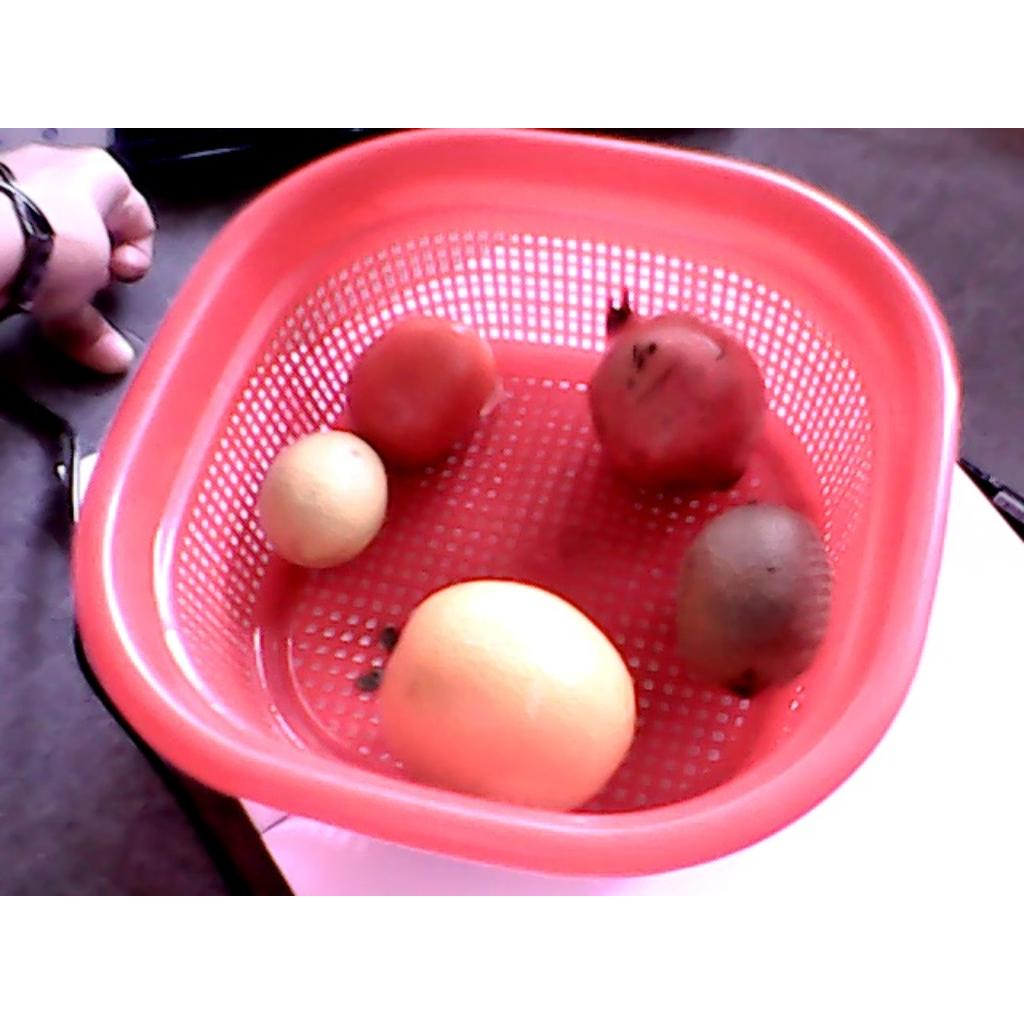kiwi: (673, 503, 833, 701)
lemon: (259, 429, 389, 569)
orange: (358, 579, 635, 811)
pomegranate: (585, 291, 767, 494)
tomato: (346, 316, 506, 467)
